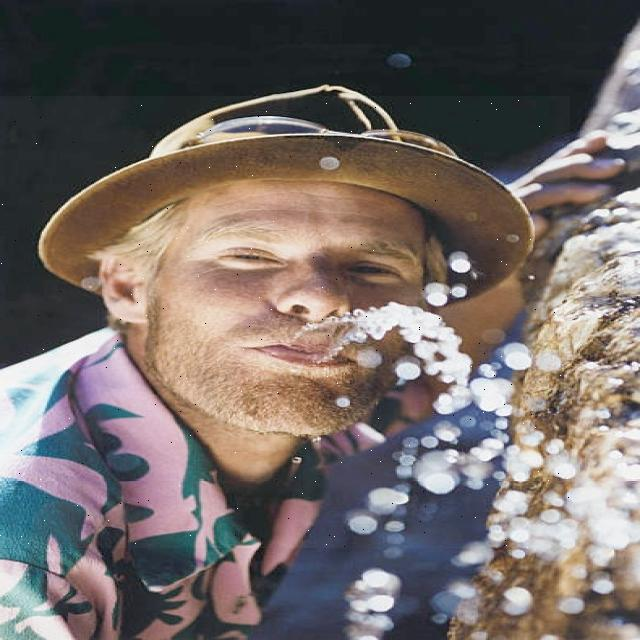Spitting: (0, 96, 570, 548)
